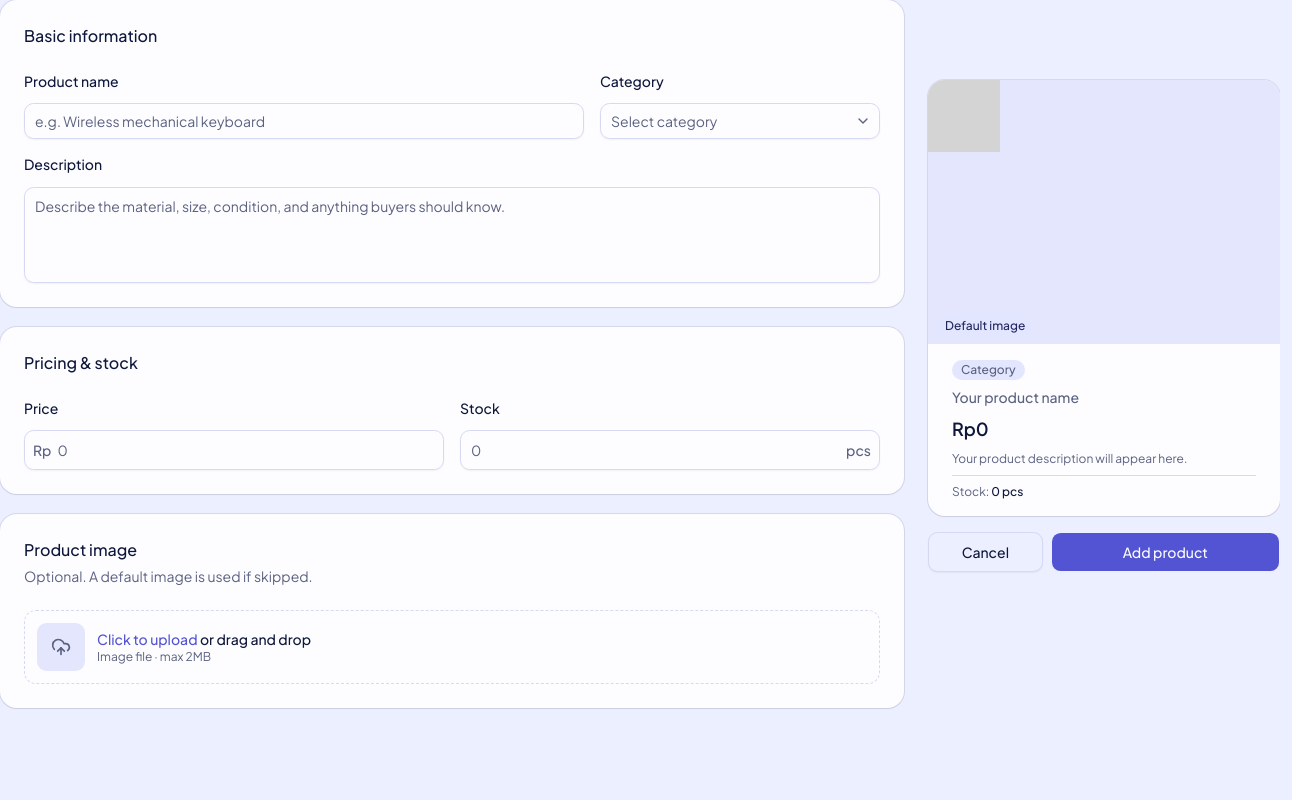
Scenario: ProductForm: tambah produk › memperbarui preview nama dan harga
The width and height of the screenshot is (1292, 800).
In the field labelled "Product name": x=304, y=121 left=24, top=103, right=584, bottom=139, type "Keyboard Pro"
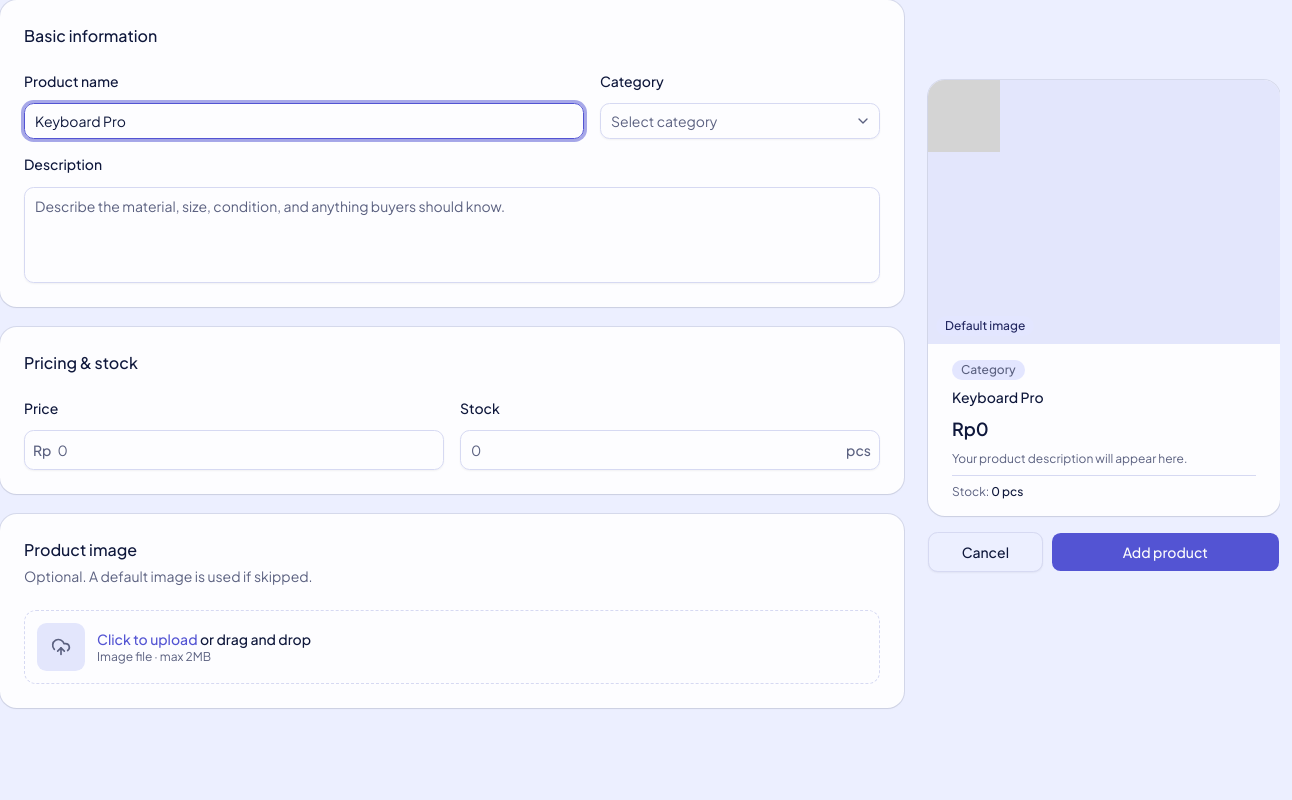
In the number field labelled "Price": x=247, y=450 left=52, top=432, right=443, bottom=468, type "150000"
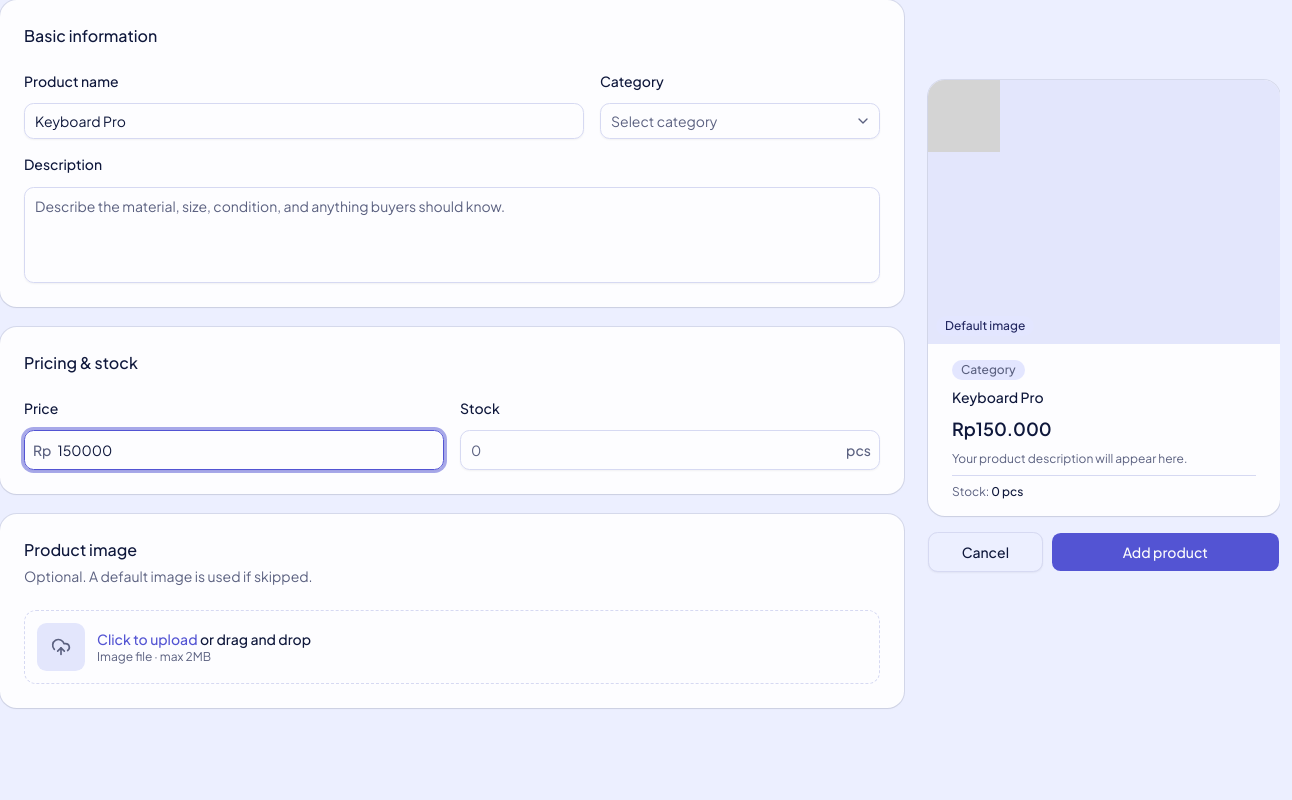
expect the text "Keyboard Pro" is shown: met, box left=952, top=388, right=1044, bottom=406
expect the text "Rp150.000" is shown: met, box left=952, top=417, right=1052, bottom=440
